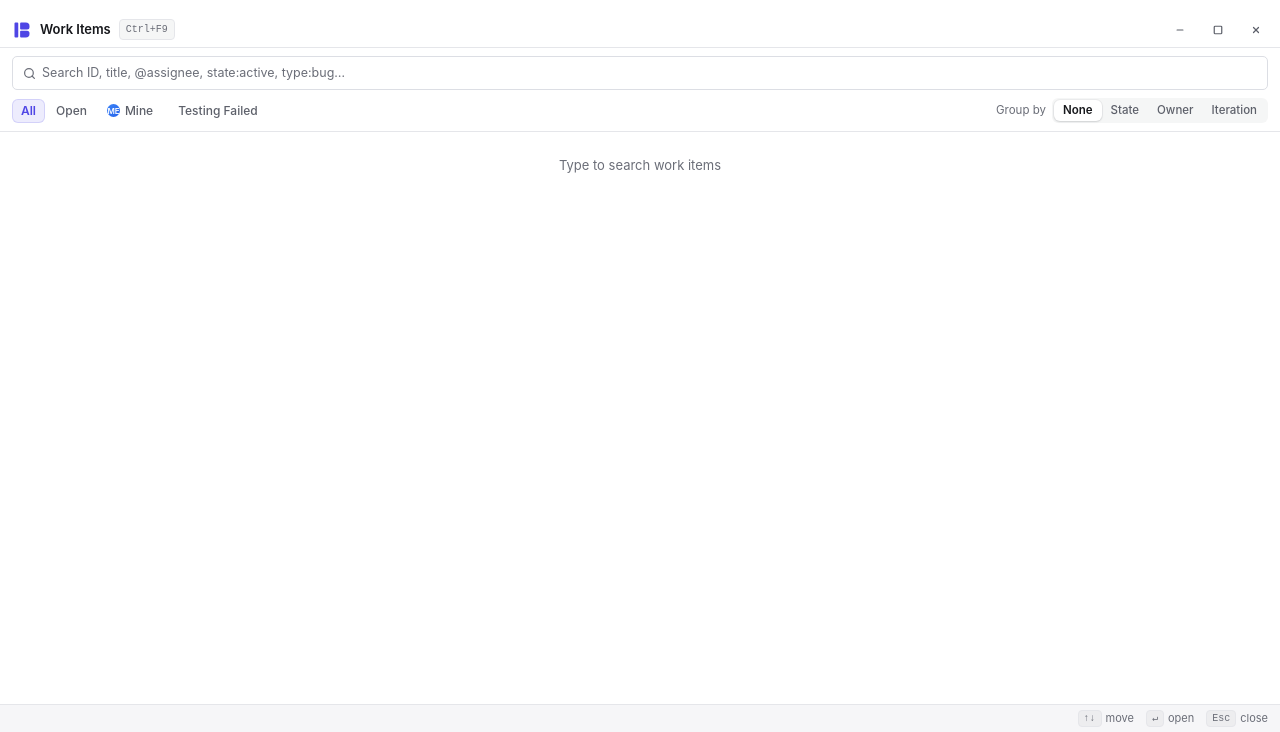
Test: WorkItemPaletteApp › shows status text for short text search
Type "a" into the field with placeholder "Search ID, title, @assignee, state:active, type:bug…" at (650, 73), box [42,64,1259,82]
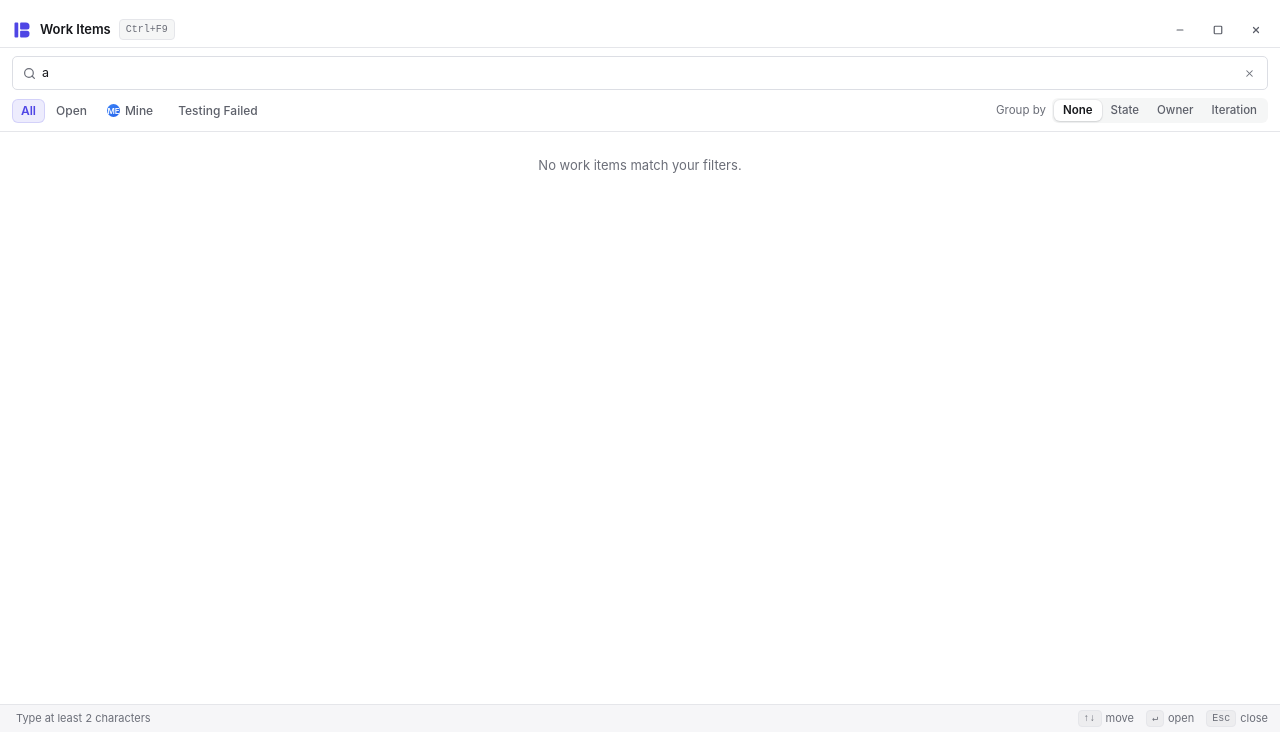
Expected: the text "Type at least 2 characters" is shown, [16,710,151,727]
